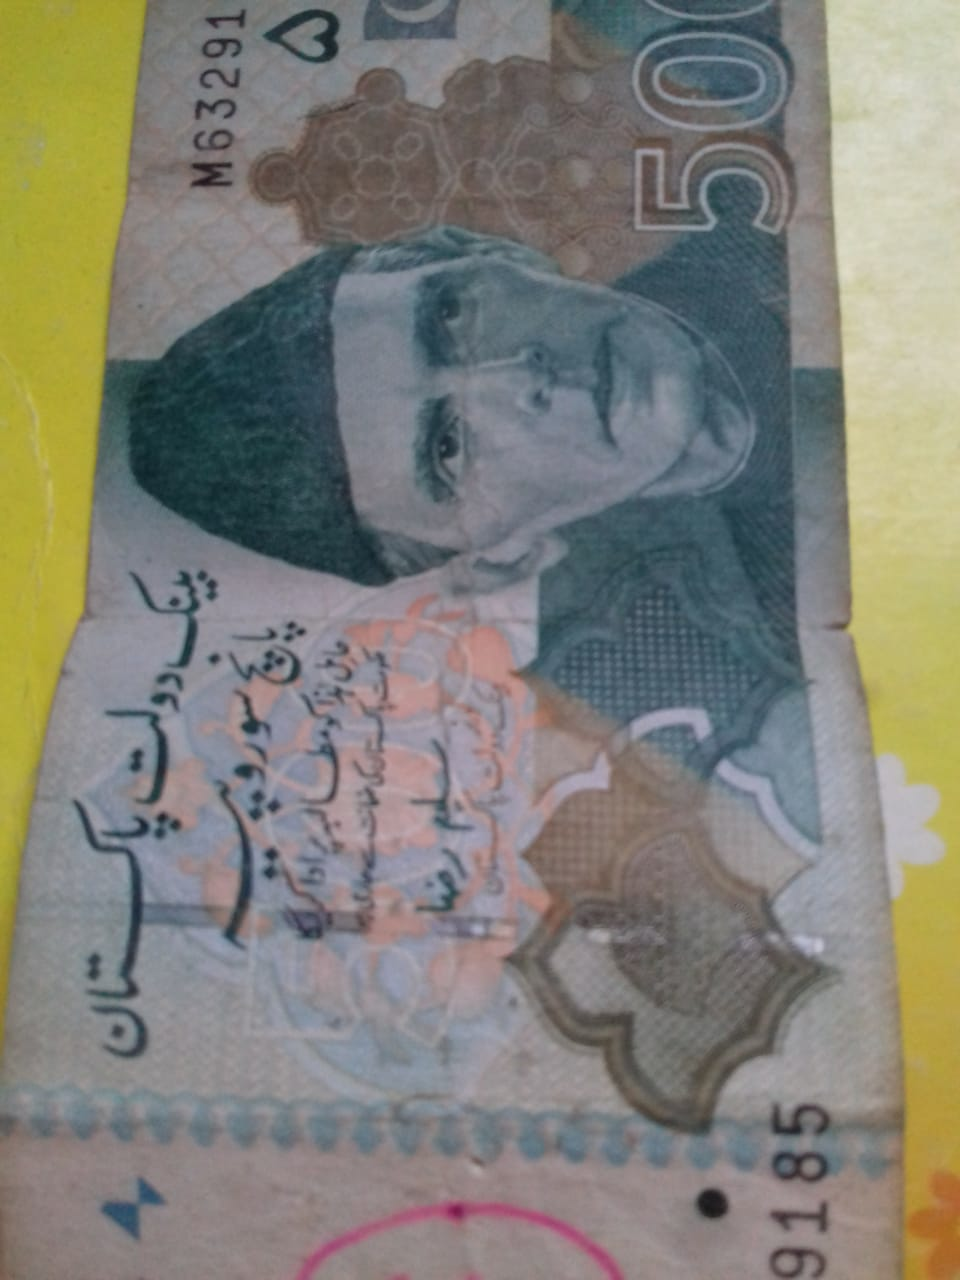500 rupee: (39, 11, 916, 1280)
